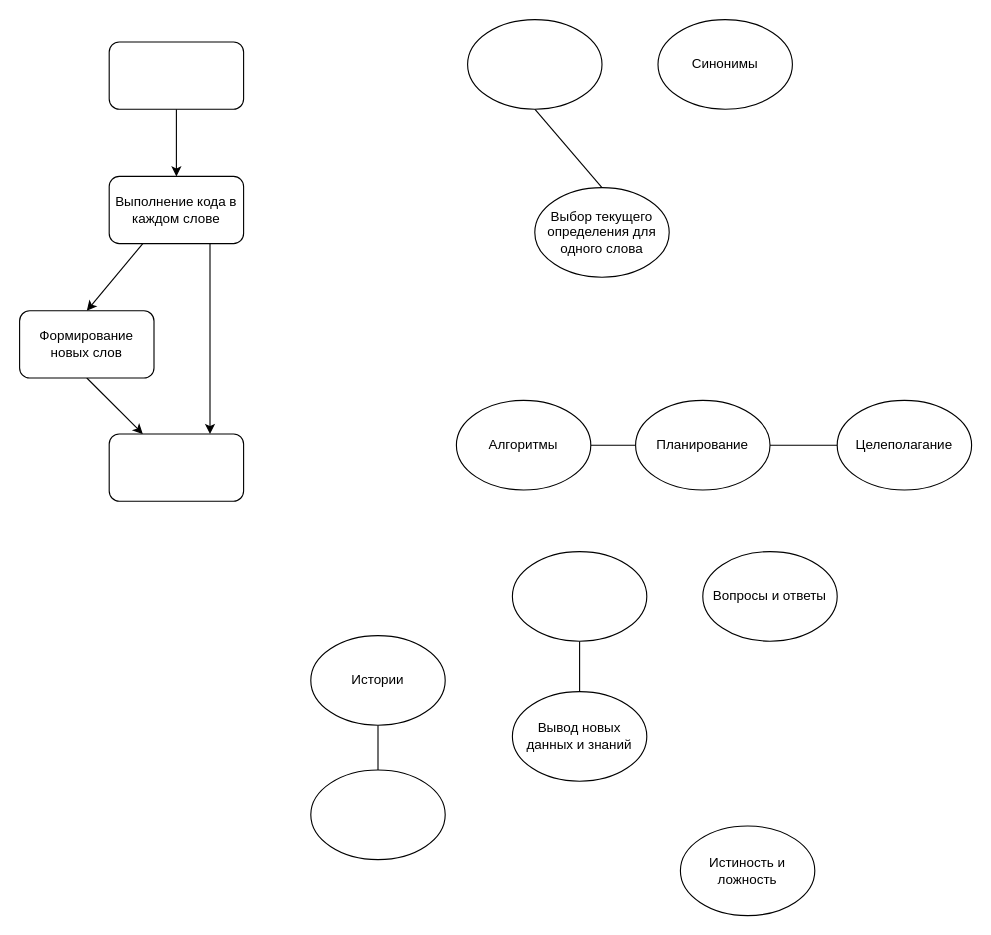
This 991x935 diagram has some shape labels left out. The centre of each missing label's shape, as x and y in pixels:
Вывод нового определения: the point at 579,595
Выдача ответа: the point at 176,467
Закономерности: the point at 377,814
Контекст: the point at 534,63
Разделение входной строки на слова: the point at 176,75
